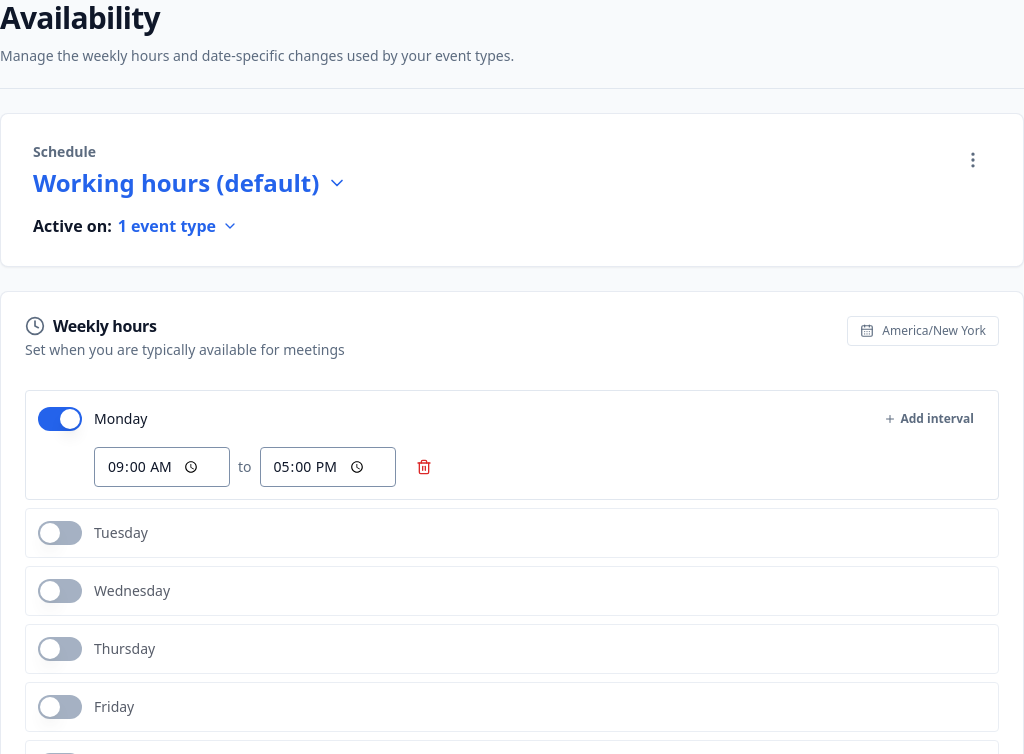
Test: AvailabilityClient › renames the selected schedule from the action menu
The width and height of the screenshot is (1024, 754).
Step 1. Press the mouse on the button named "Schedule actions" → coordinates (973, 160), box left=955, top=142, right=991, bottom=178
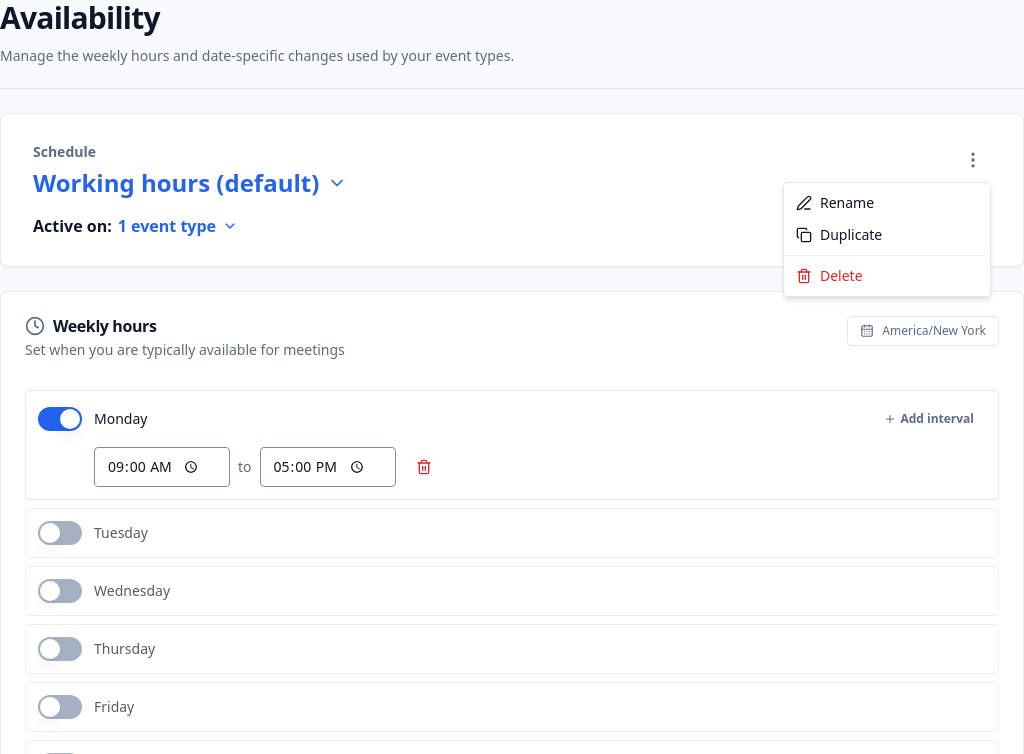
Step 2. Click the menu item "Rename" → coordinates (835, 202), box left=796, top=193, right=874, bottom=212
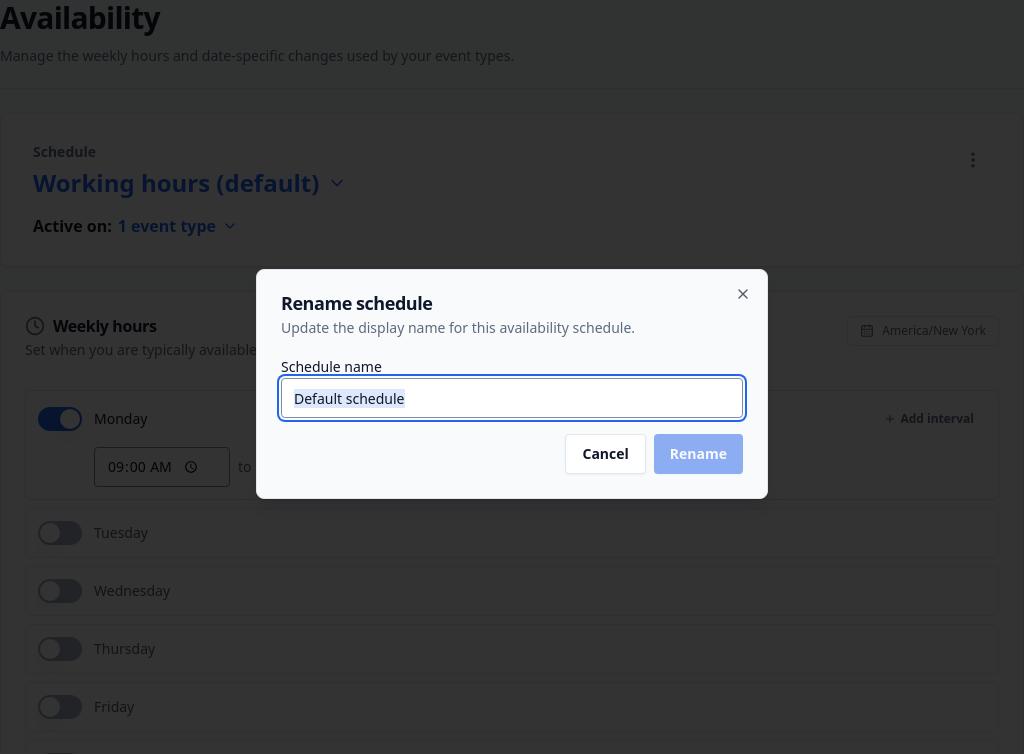
Step 3. Replace the text in the field labelled "Schedule name" with "Client hours" → coordinates (512, 398), box left=281, top=378, right=743, bottom=418
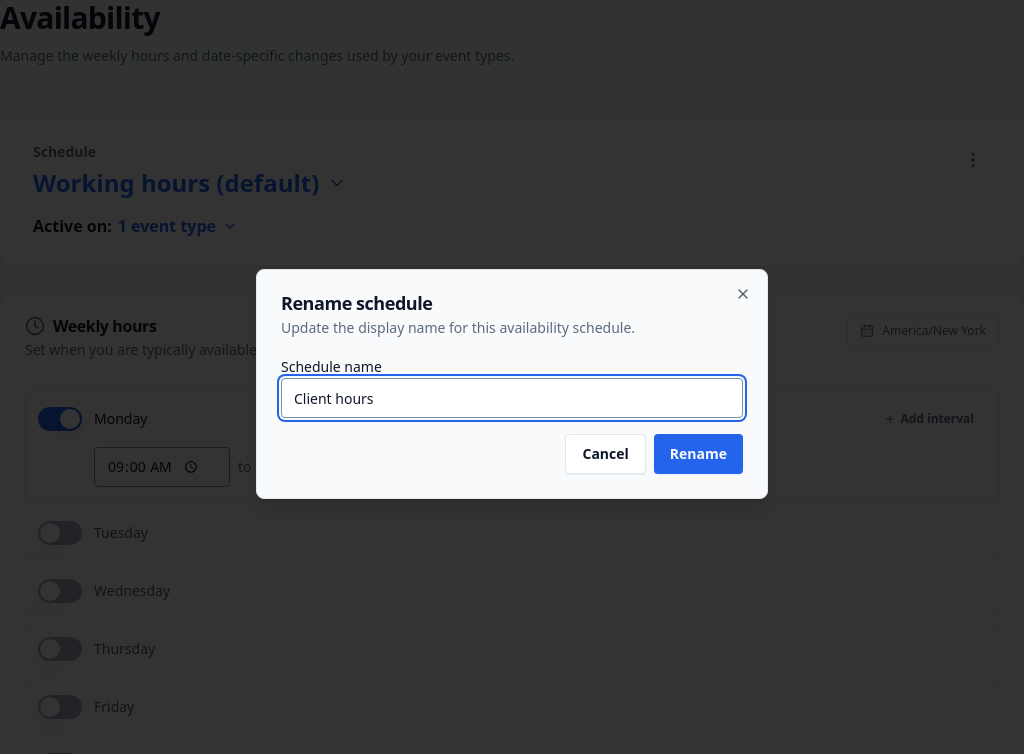
Step 4. Click the button "Rename" → coordinates (698, 454), box left=654, top=434, right=743, bottom=474
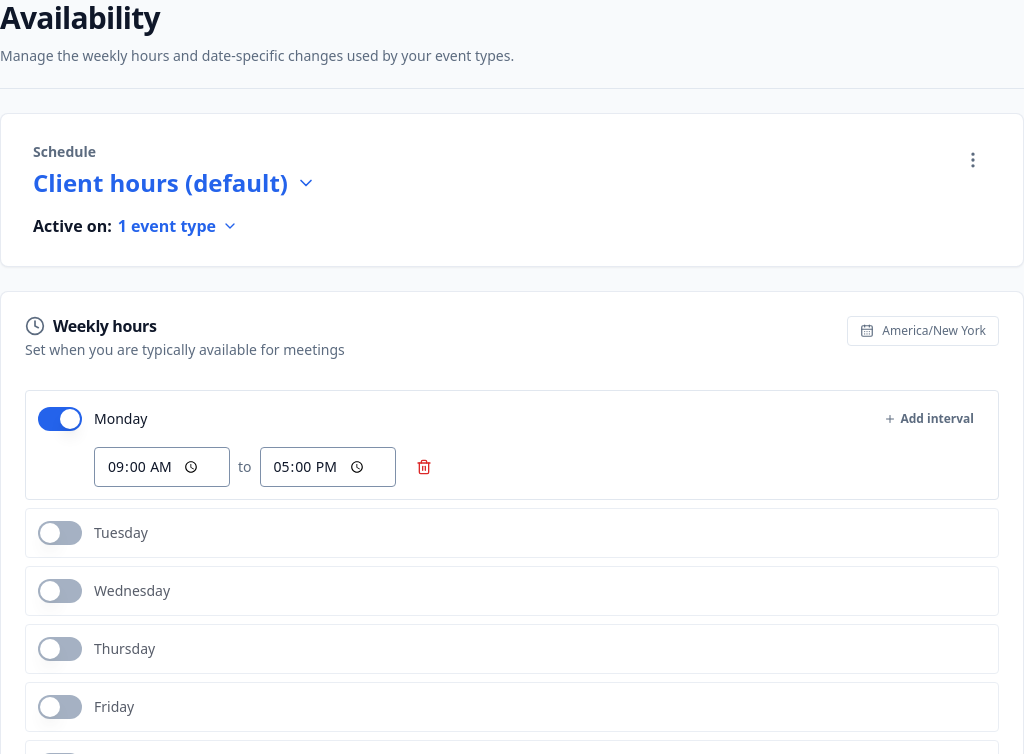
Result: the button with aria-label "Active schedule" reads "Client hours (default)" at left=33, top=168, right=316, bottom=198
